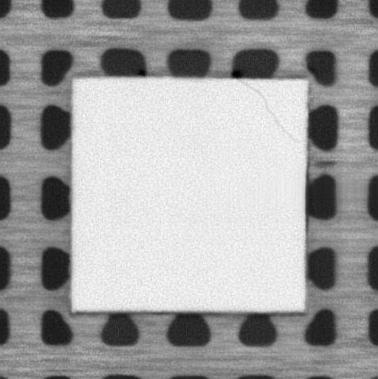DIE_CRACK: (238, 80, 299, 143)
